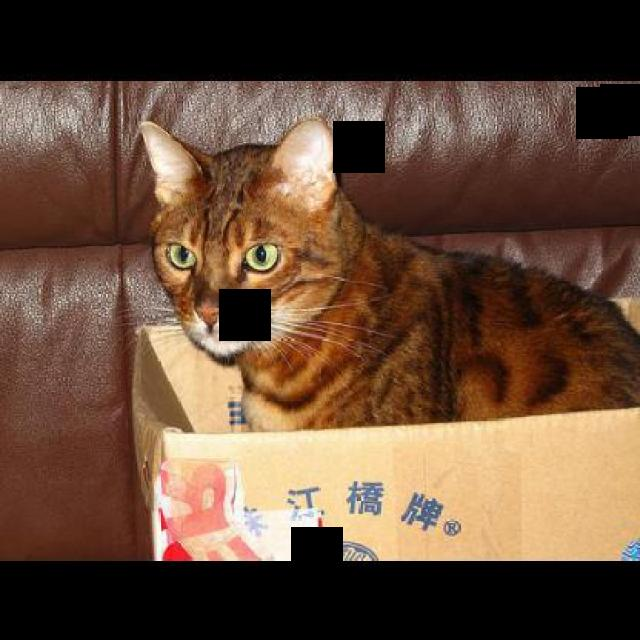unauthorized: (137, 114, 638, 432)
